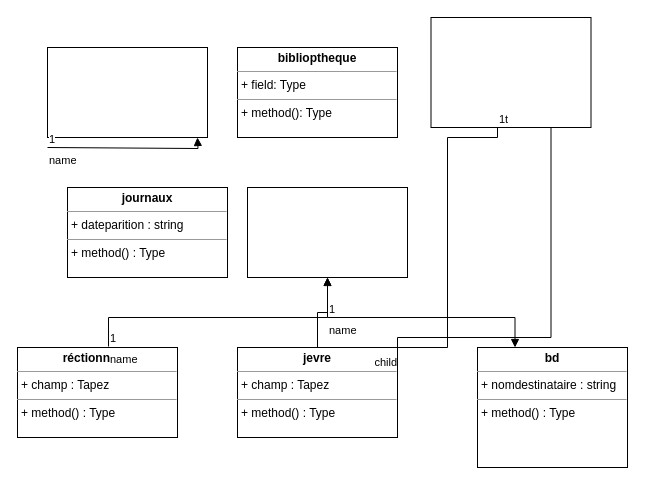
The diagram is 645 pixels wide and 485 high, and some of its shapes have lost their labels. The shapes that lost their labels are listed below. From the top down, each one's centre as x and y in pixels, then its label:
point 127,92: document + champ : Tapez + method() : Type
point 510,72: adhérent +id : entier prenom:chaîne nom:chaîne + method() : Type
point 327,232: vumé + auteur : string + method() : Type
